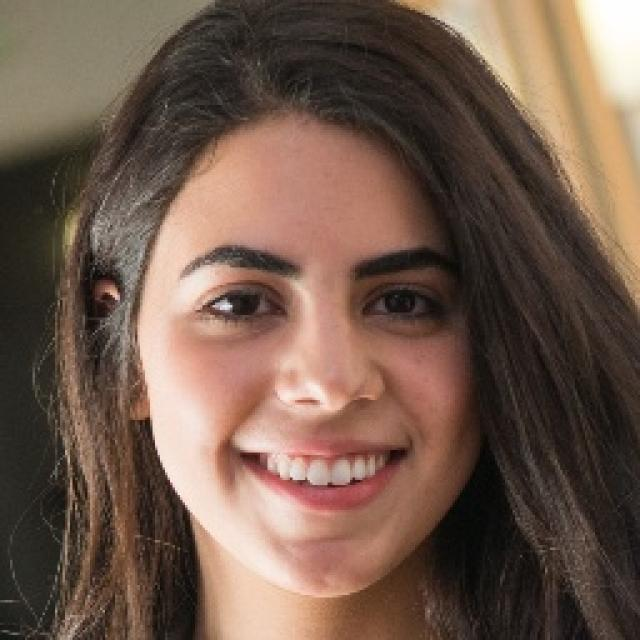earlobe: (111, 378, 153, 421)
eye: (200, 287, 284, 322), (362, 288, 443, 320)
nose: (281, 390, 384, 440)
wholeear: (88, 281, 155, 422)
